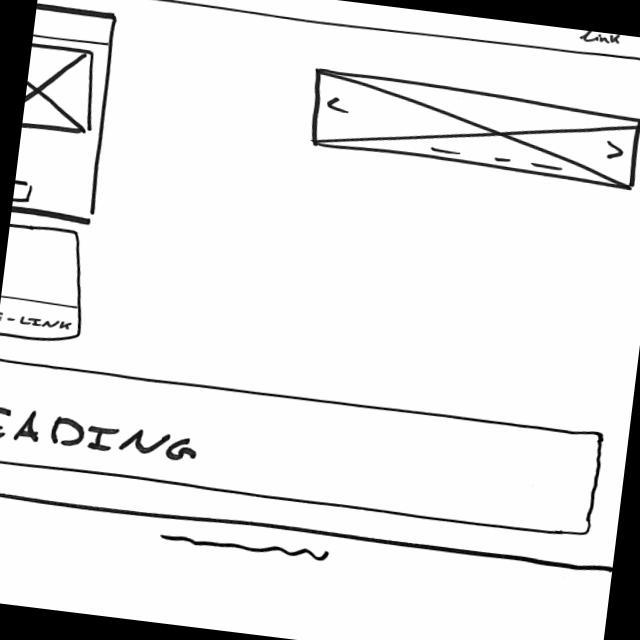container: (0, 354, 609, 542), (38, 0, 640, 65), (10, 0, 120, 225), (0, 220, 98, 351)
icon-button: (12, 178, 33, 204)
image: (301, 66, 640, 194), (21, 41, 105, 138)
label: (0, 399, 202, 465), (0, 307, 74, 332), (580, 30, 622, 48)
text: (157, 528, 330, 562)
